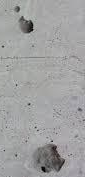Spalling: (31, 142, 66, 174), (13, 5, 34, 34)
